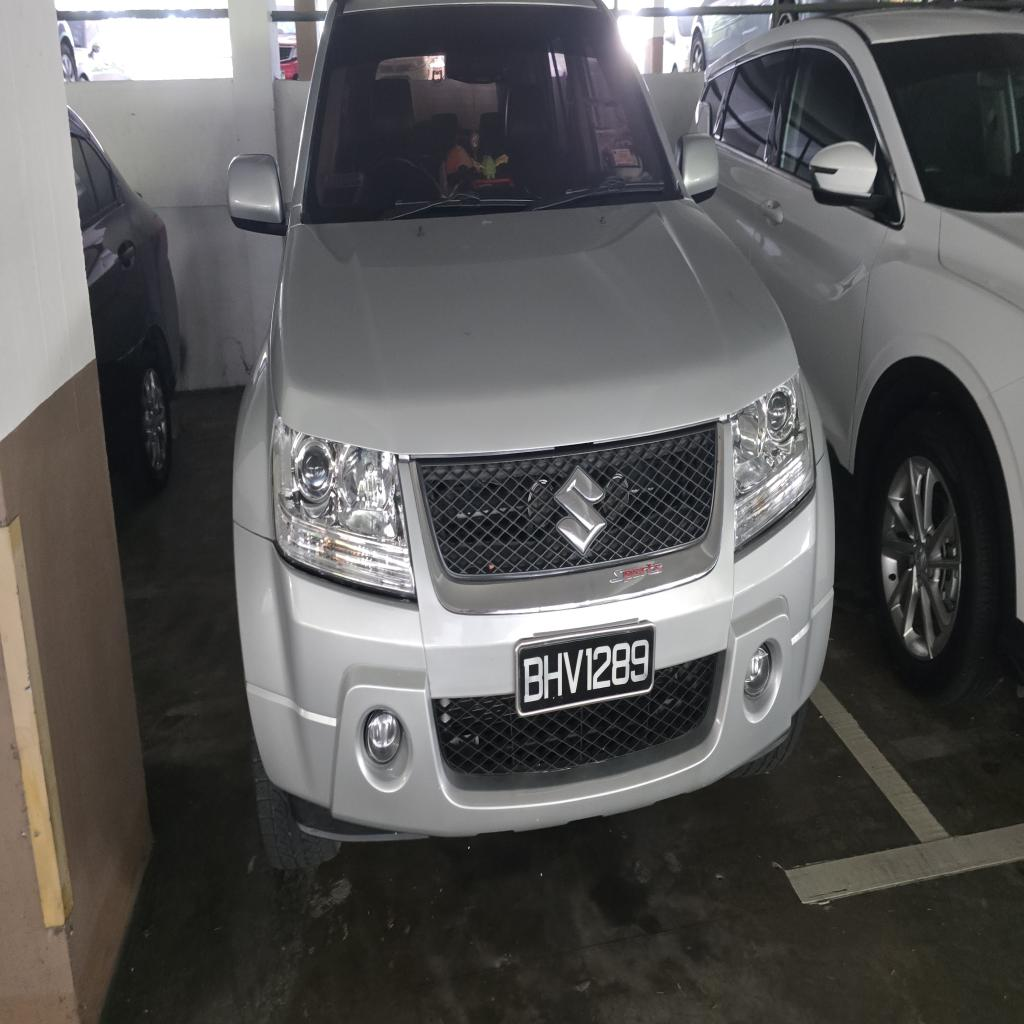car: (229, 0, 833, 867)
car plate: (516, 624, 655, 716)
